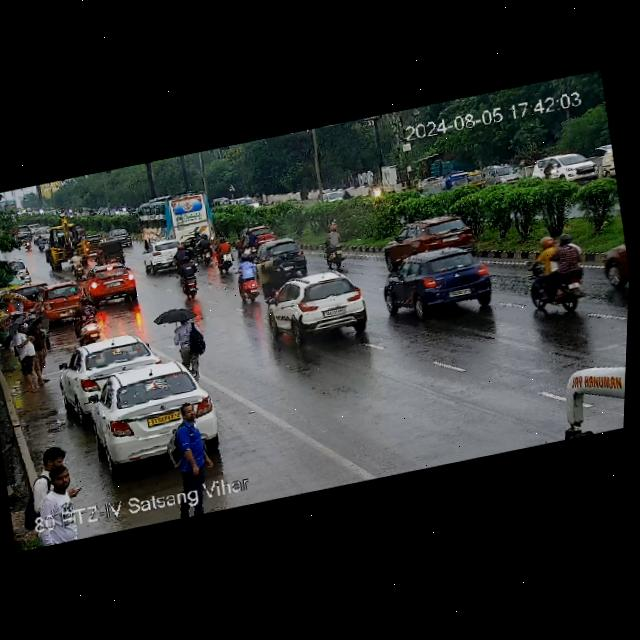bus: (134, 187, 219, 250)
car: (67, 352, 224, 476), (263, 262, 381, 349), (381, 242, 497, 325), (57, 329, 165, 402), (381, 208, 484, 266), (529, 146, 602, 190), (85, 259, 144, 306), (256, 236, 315, 282), (35, 279, 89, 322), (597, 233, 631, 300), (232, 220, 278, 253), (146, 236, 193, 267), (481, 159, 523, 189), (443, 167, 486, 195), (95, 237, 132, 267), (4, 256, 31, 286), (105, 226, 136, 249), (12, 222, 32, 240)
motorcycle: (525, 253, 588, 316), (526, 232, 594, 287), (230, 254, 269, 303), (320, 220, 353, 270), (208, 238, 238, 273), (171, 242, 203, 274), (175, 263, 206, 295), (240, 228, 259, 258), (22, 233, 35, 251), (367, 182, 381, 198)
person: (30, 460, 87, 547), (165, 402, 223, 481), (18, 440, 76, 510), (163, 303, 208, 371), (8, 320, 46, 390)
truck: (37, 218, 94, 271)
